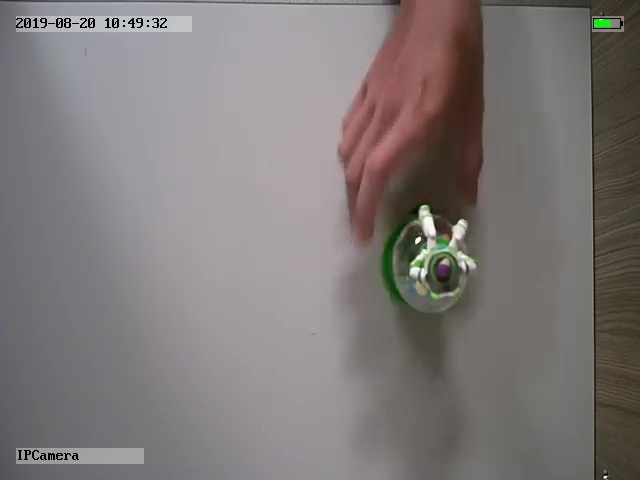buzz: (381, 204, 477, 313)
